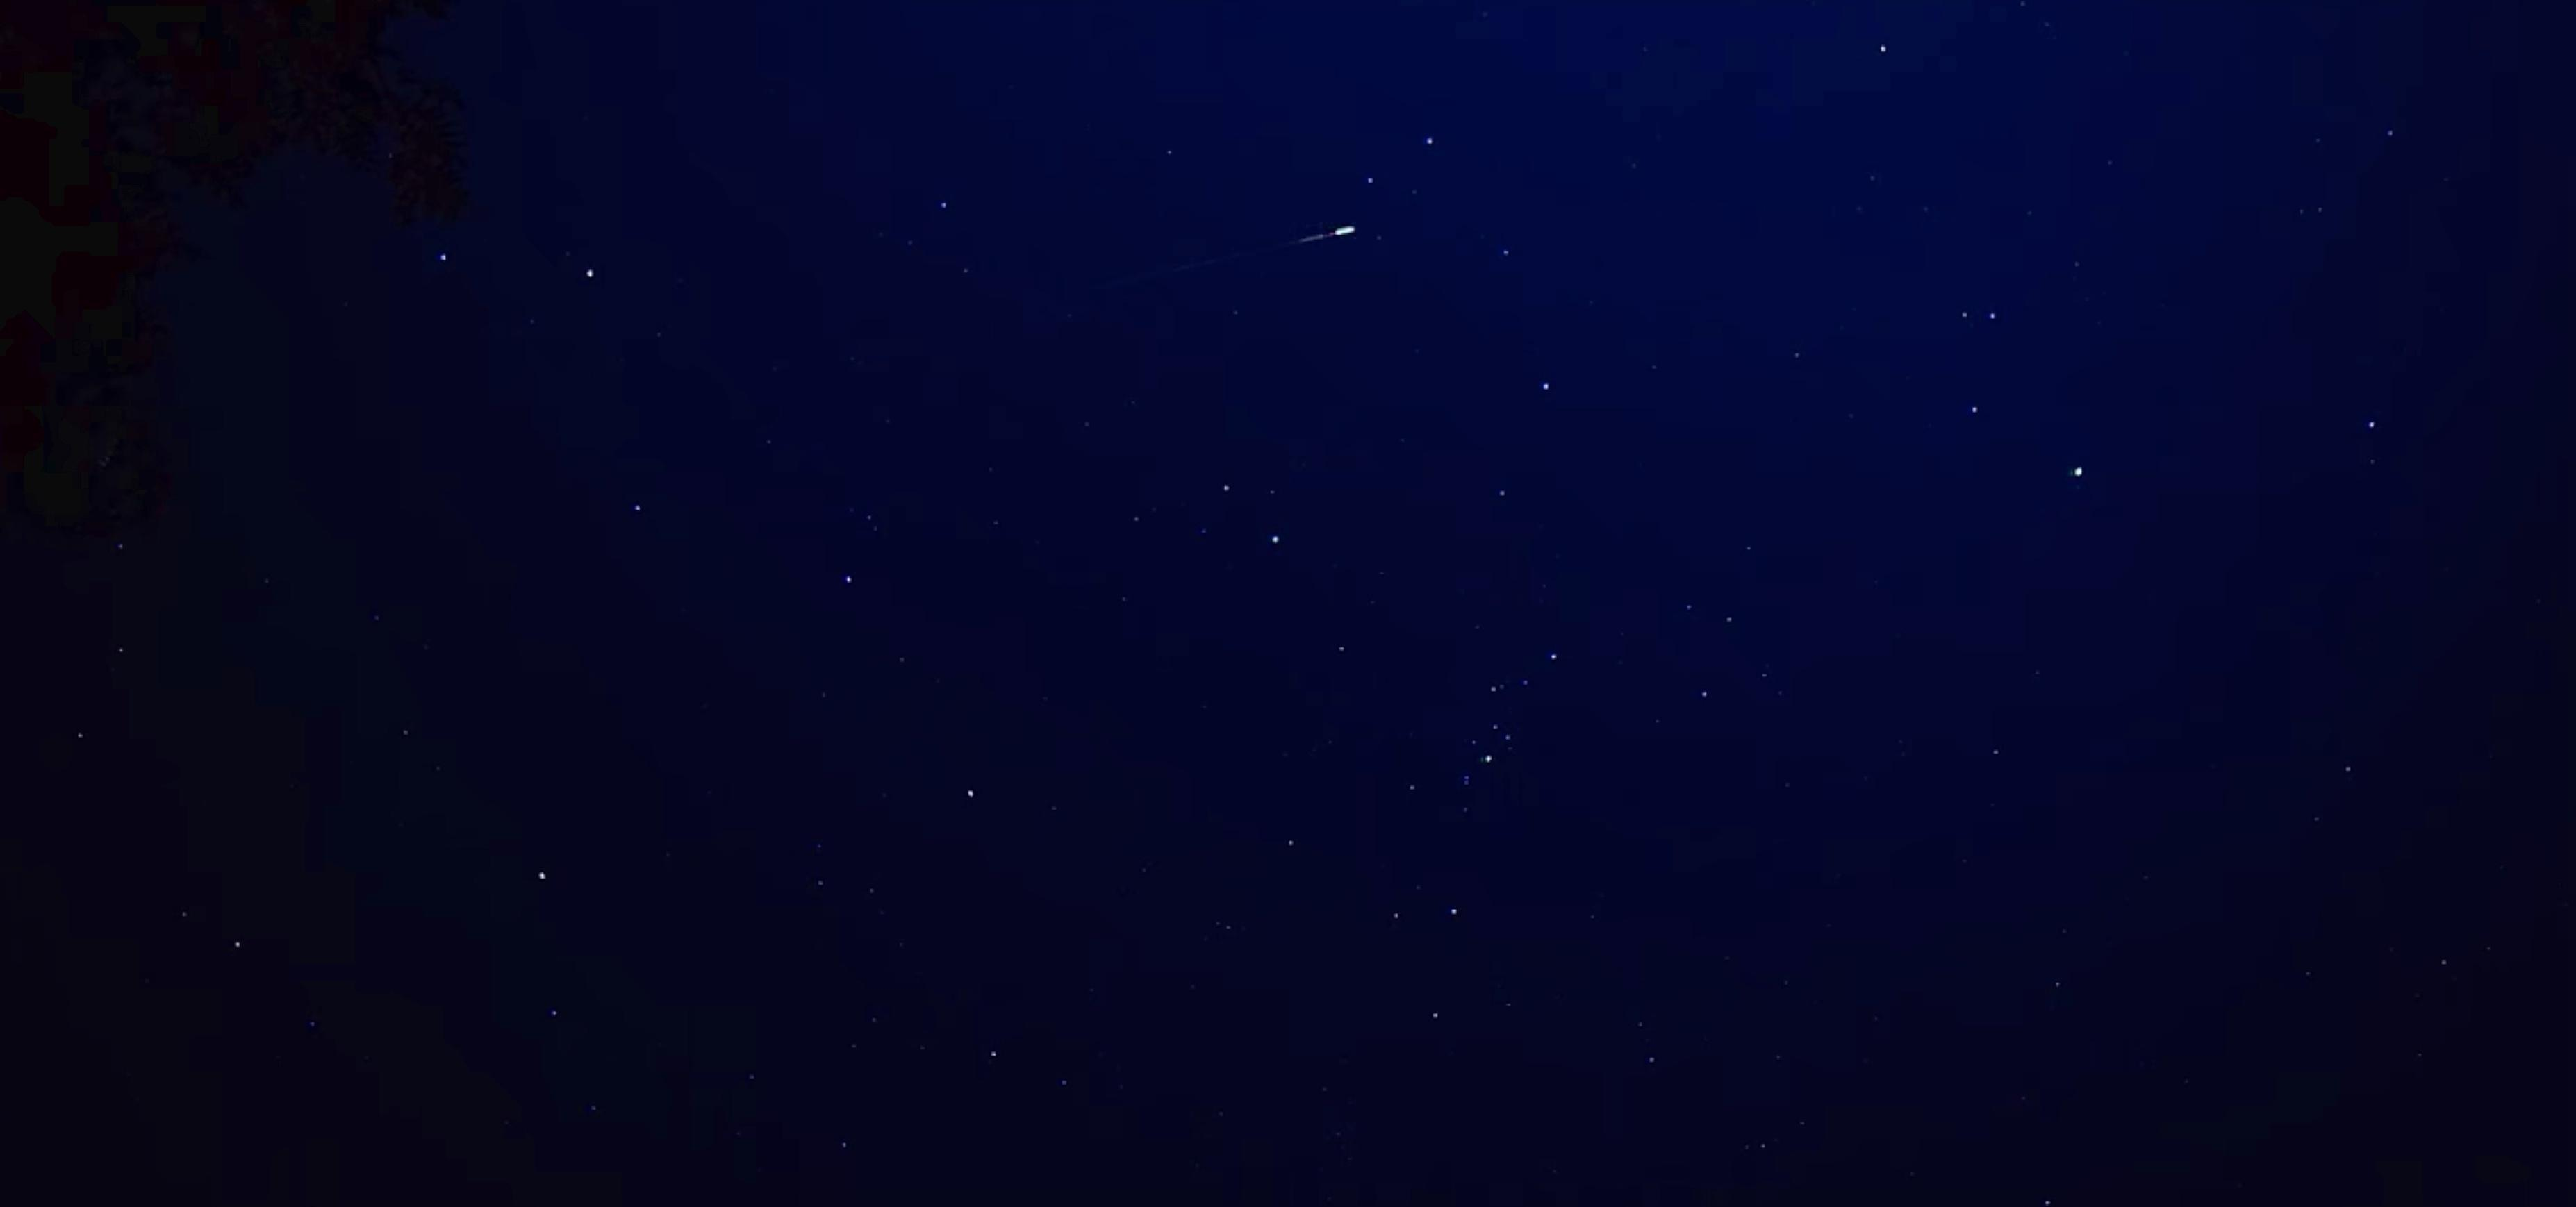meteorite: (1119, 209, 1410, 284)
